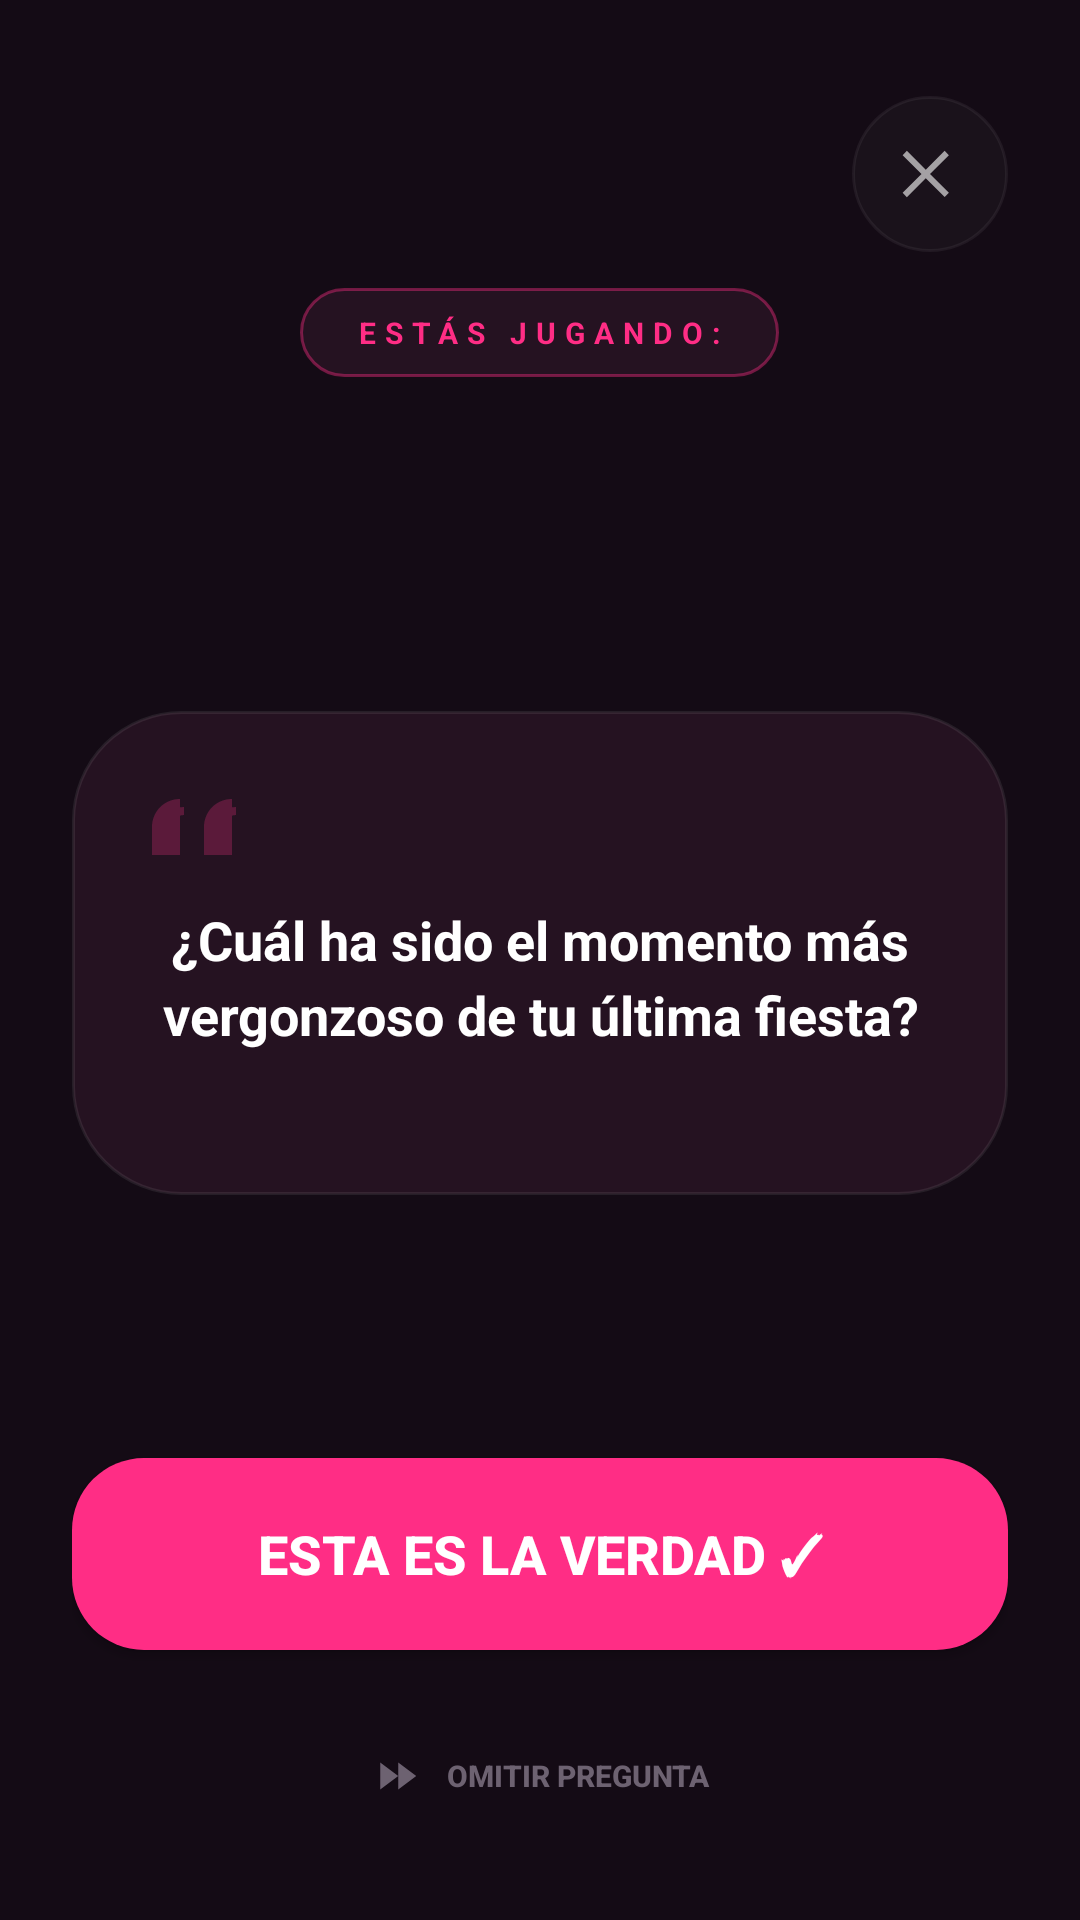

Screen size 1080 × 1920. Icon name, then its center in pixels as (x=x, y=y):
Cerrar: (x=925, y=174)
quote: (x=194, y=827)
